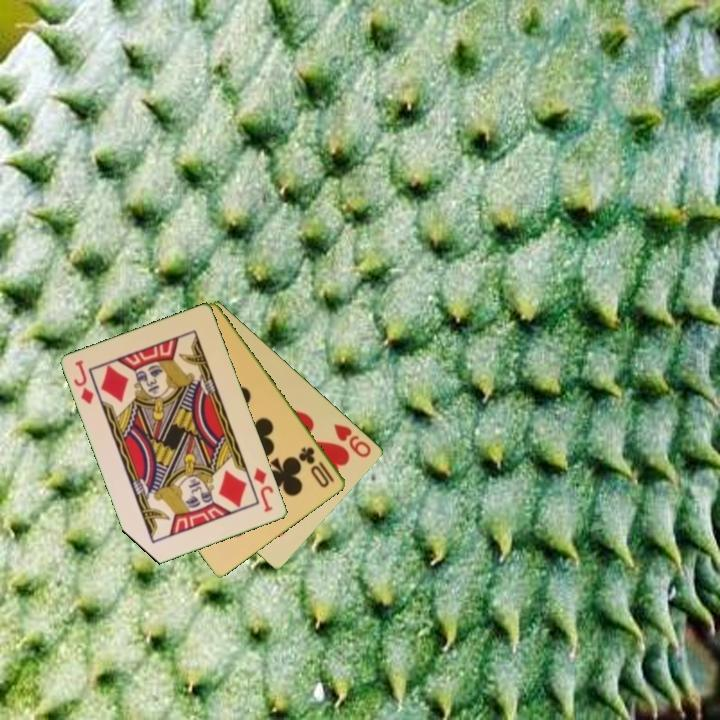10c: (295, 444, 338, 491)
9h: (330, 420, 375, 460)
Jd: (250, 464, 277, 515), (70, 357, 97, 407)
